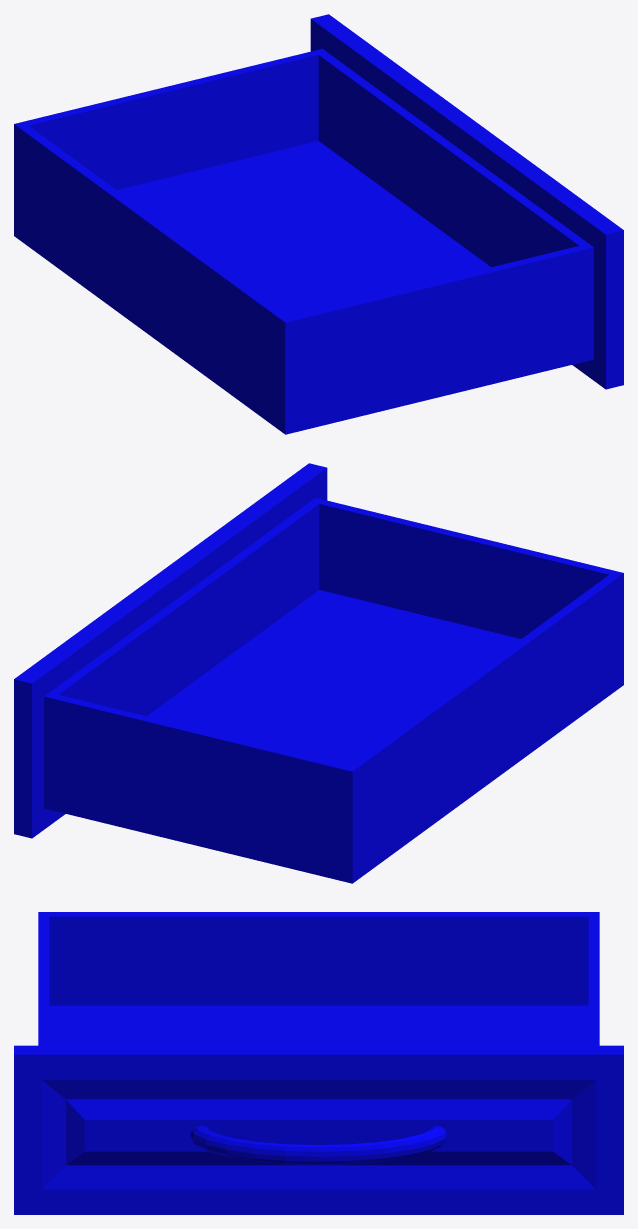
File: Closet_Drawer.fbx
The picture shows the model from 3 angles, top to bottom: view 1: azimuth 30°, elevation 25°; view 2: azimuth 150°, elevation 25°; view 3: azimuth 270°, elevation 25°; orthographic projection. The views are drawn at different scales.
Visible parts, largest first — view 1: Closet_Drawer; view 2: Closet_Drawer; view 3: Closet_Drawer.
Part boxes in pixels (x1,y1,x2,y2): Closet_Drawer: (14, 14, 623, 434); Closet_Drawer: (14, 463, 623, 883); Closet_Drawer: (14, 912, 623, 1214).
Size of the model in its own units: 25.91 by 10.35 by 35.75.
